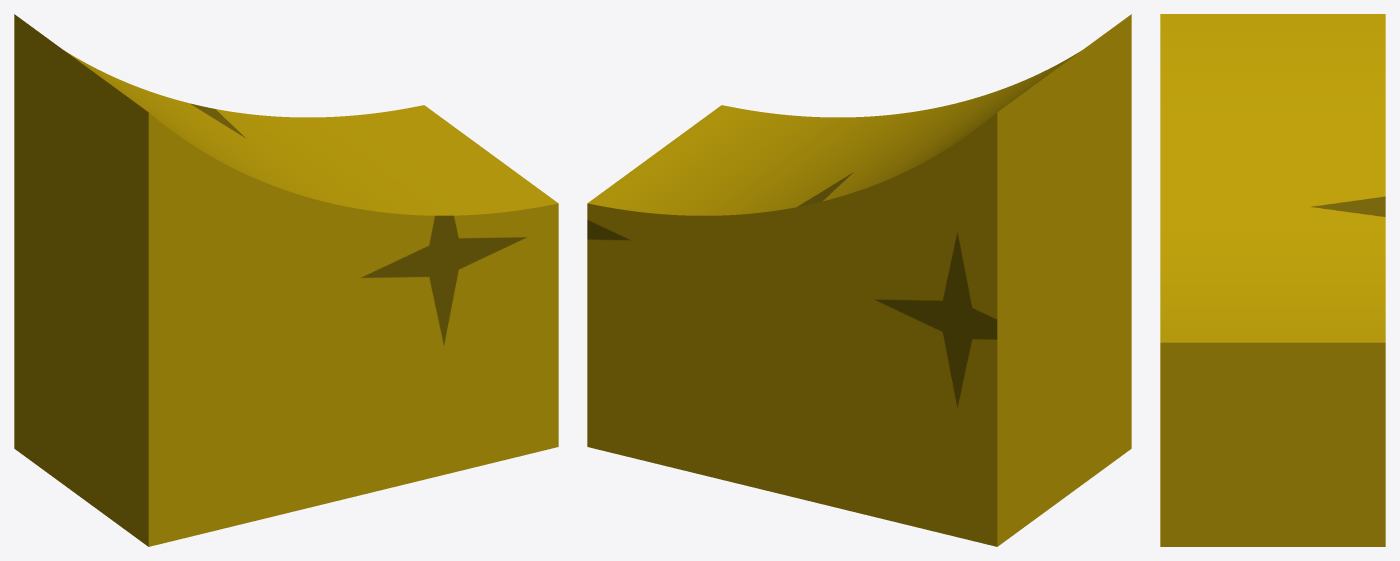
File: RampoffText_MES.FBX
The picture shows the model from 3 angles, left to right: view 1: azimuth 30°, elevation 25°; view 2: azimuth 150°, elevation 25°; view 3: azimuth 270°, elevation 25°; orthographic projection. The views are drawn at different scales.
Parts seen in each view (by area): view 1: RampOffV1; view 2: RampOffV1; view 3: RampOffV1.
Part boxes in pixels (x1,y1,x2,y2): RampOffV1: (14,14,558,546); RampOffV1: (587,14,1131,546); RampOffV1: (1160,14,1385,546).
Bounding box in the file's own units: 352 × 357 × 200.
